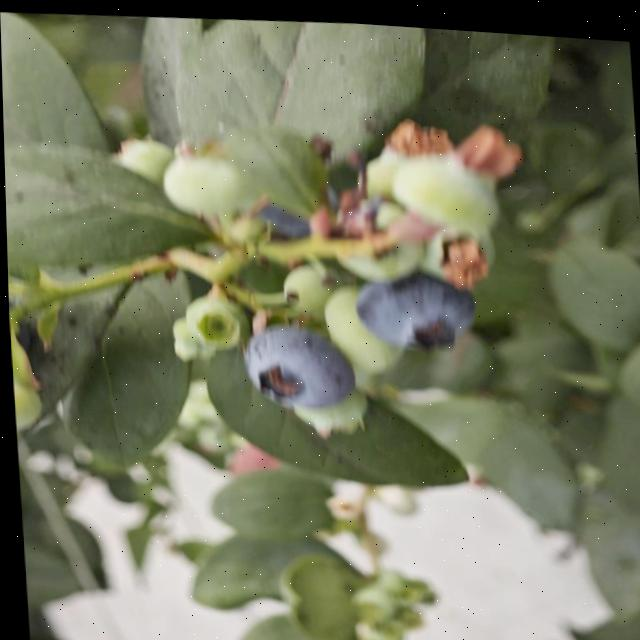RipeBlueBerry: (353, 263, 478, 348), (241, 318, 354, 406)
